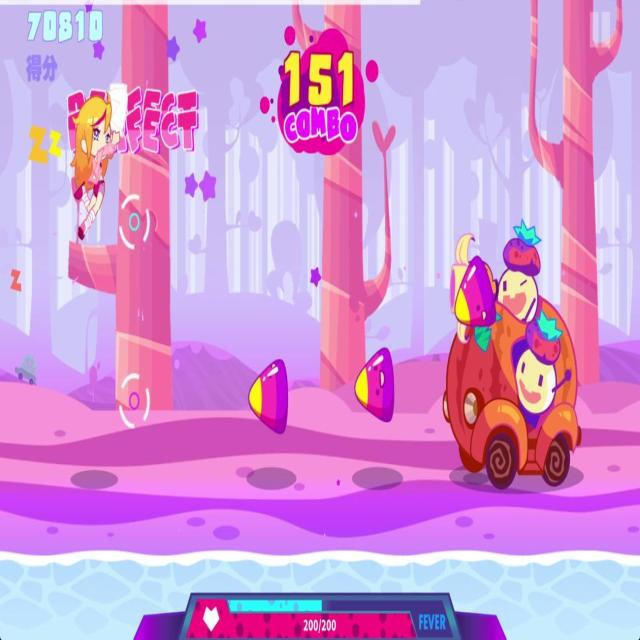cheboss: (440, 215, 580, 490)
jian: (352, 340, 397, 426), (454, 251, 496, 329), (248, 358, 291, 434)
